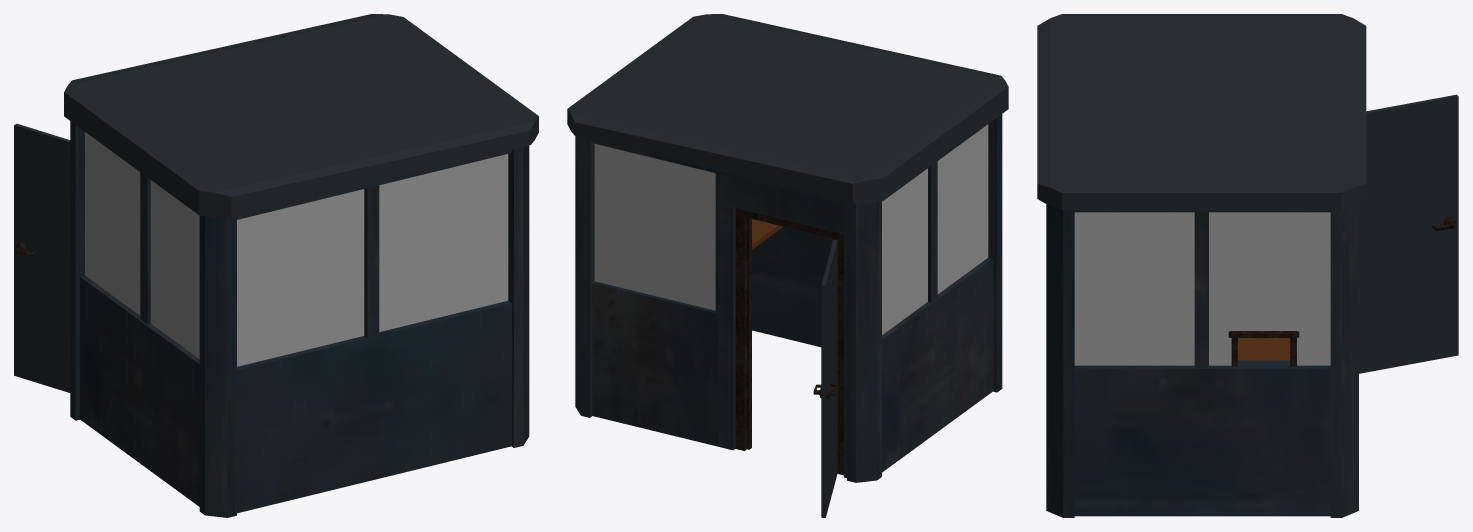
Rendered from security-booth.lod1.glb.
The picture shows the model from 3 angles, left to right: view 1: azimuth 30°, elevation 25°; view 2: azimuth 150°, elevation 25°; view 3: azimuth 270°, elevation 25°; orthographic projection. The views are drawn at different scales.
Visible parts, largest first — view 1: Object_5, Object_8; view 2: Object_5, Object_8, Object_4; view 3: Object_5, Object_8, Object_4.
Part boxes in pixels (left/top/right/bottom): Object_5: left=14, top=14, right=538, bottom=392; Object_8: left=70, top=121, right=529, bottom=517; Object_5: left=567, top=14, right=1008, bottom=517; Object_8: left=575, top=114, right=1002, bottom=482; Object_4: left=735, top=208, right=843, bottom=475; Object_5: left=1037, top=14, right=1458, bottom=373; Object_8: left=1046, top=203, right=1358, bottom=517; Object_4: left=1228, top=216, right=1455, bottom=366.
Bounding box in the file's own units: 2.88 × 2.65 × 3.
3 materials, 2 textured.
